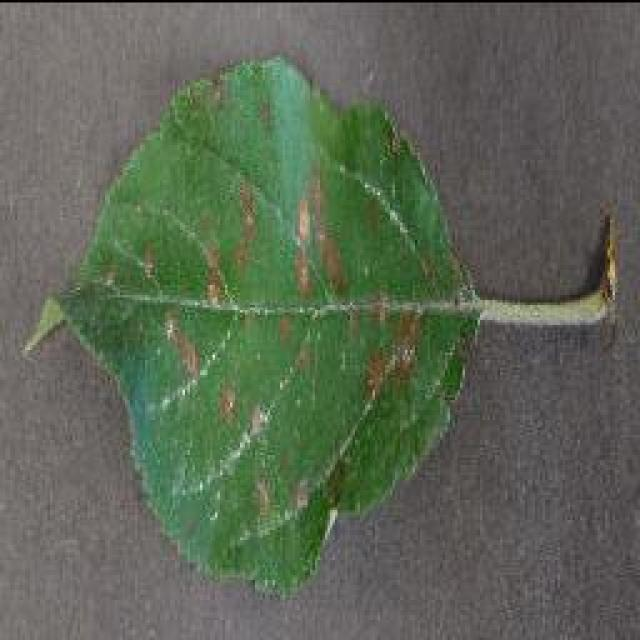apple rust disease: (20, 50, 618, 598)
